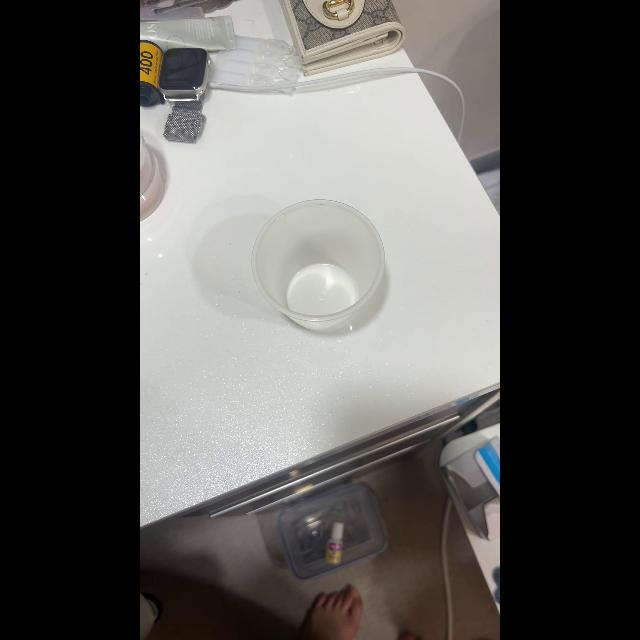clean: (252, 198, 396, 332)
